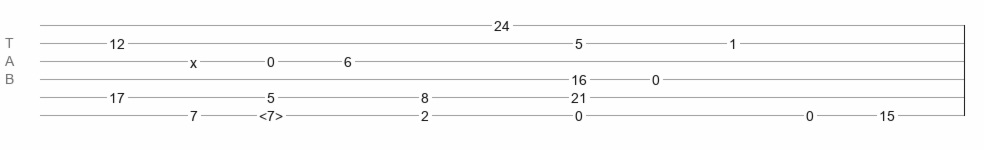0: (267, 54, 275, 64), (575, 108, 583, 118), (652, 72, 660, 82), (806, 108, 814, 118)
1: (729, 36, 737, 46)
12: (109, 36, 125, 46)
15: (879, 108, 895, 118)
16: (571, 72, 587, 82)
17: (109, 90, 125, 100)
2: (421, 108, 429, 118)
21: (571, 90, 587, 100)
24: (494, 18, 510, 28)
5: (267, 90, 275, 100), (575, 36, 583, 46)
6: (344, 54, 352, 64)
7: (190, 108, 198, 118)
8: (421, 90, 429, 100)
harmonic: (259, 108, 283, 118)
x: (190, 55, 197, 63)
